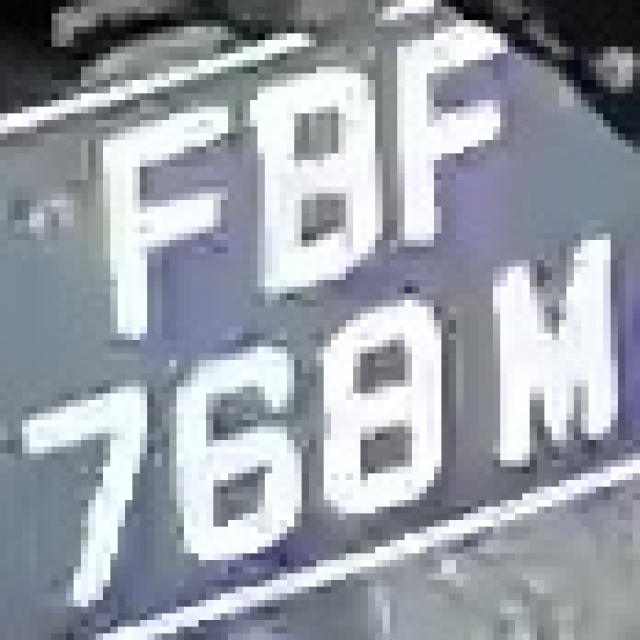6: (147, 313, 316, 580)
7: (22, 367, 155, 620)
8: (294, 274, 463, 534)
B: (228, 40, 419, 300)
F: (81, 87, 243, 340), (368, 7, 530, 246)
M: (478, 226, 633, 486)
